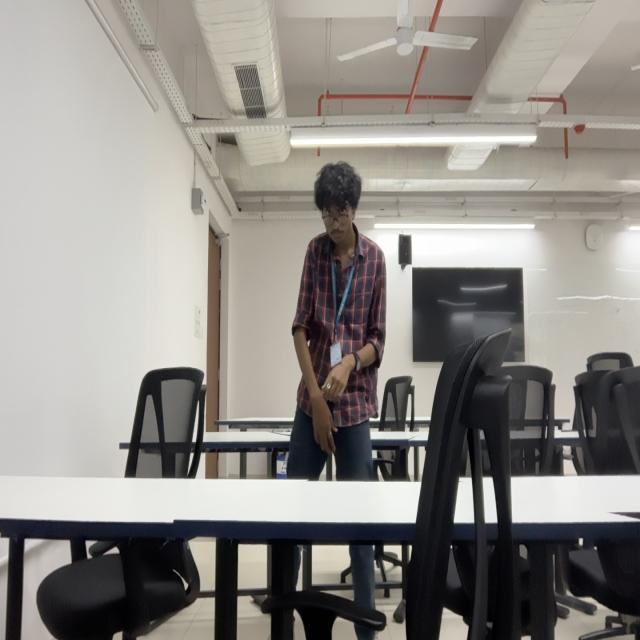darshan: (311, 165, 363, 248)
